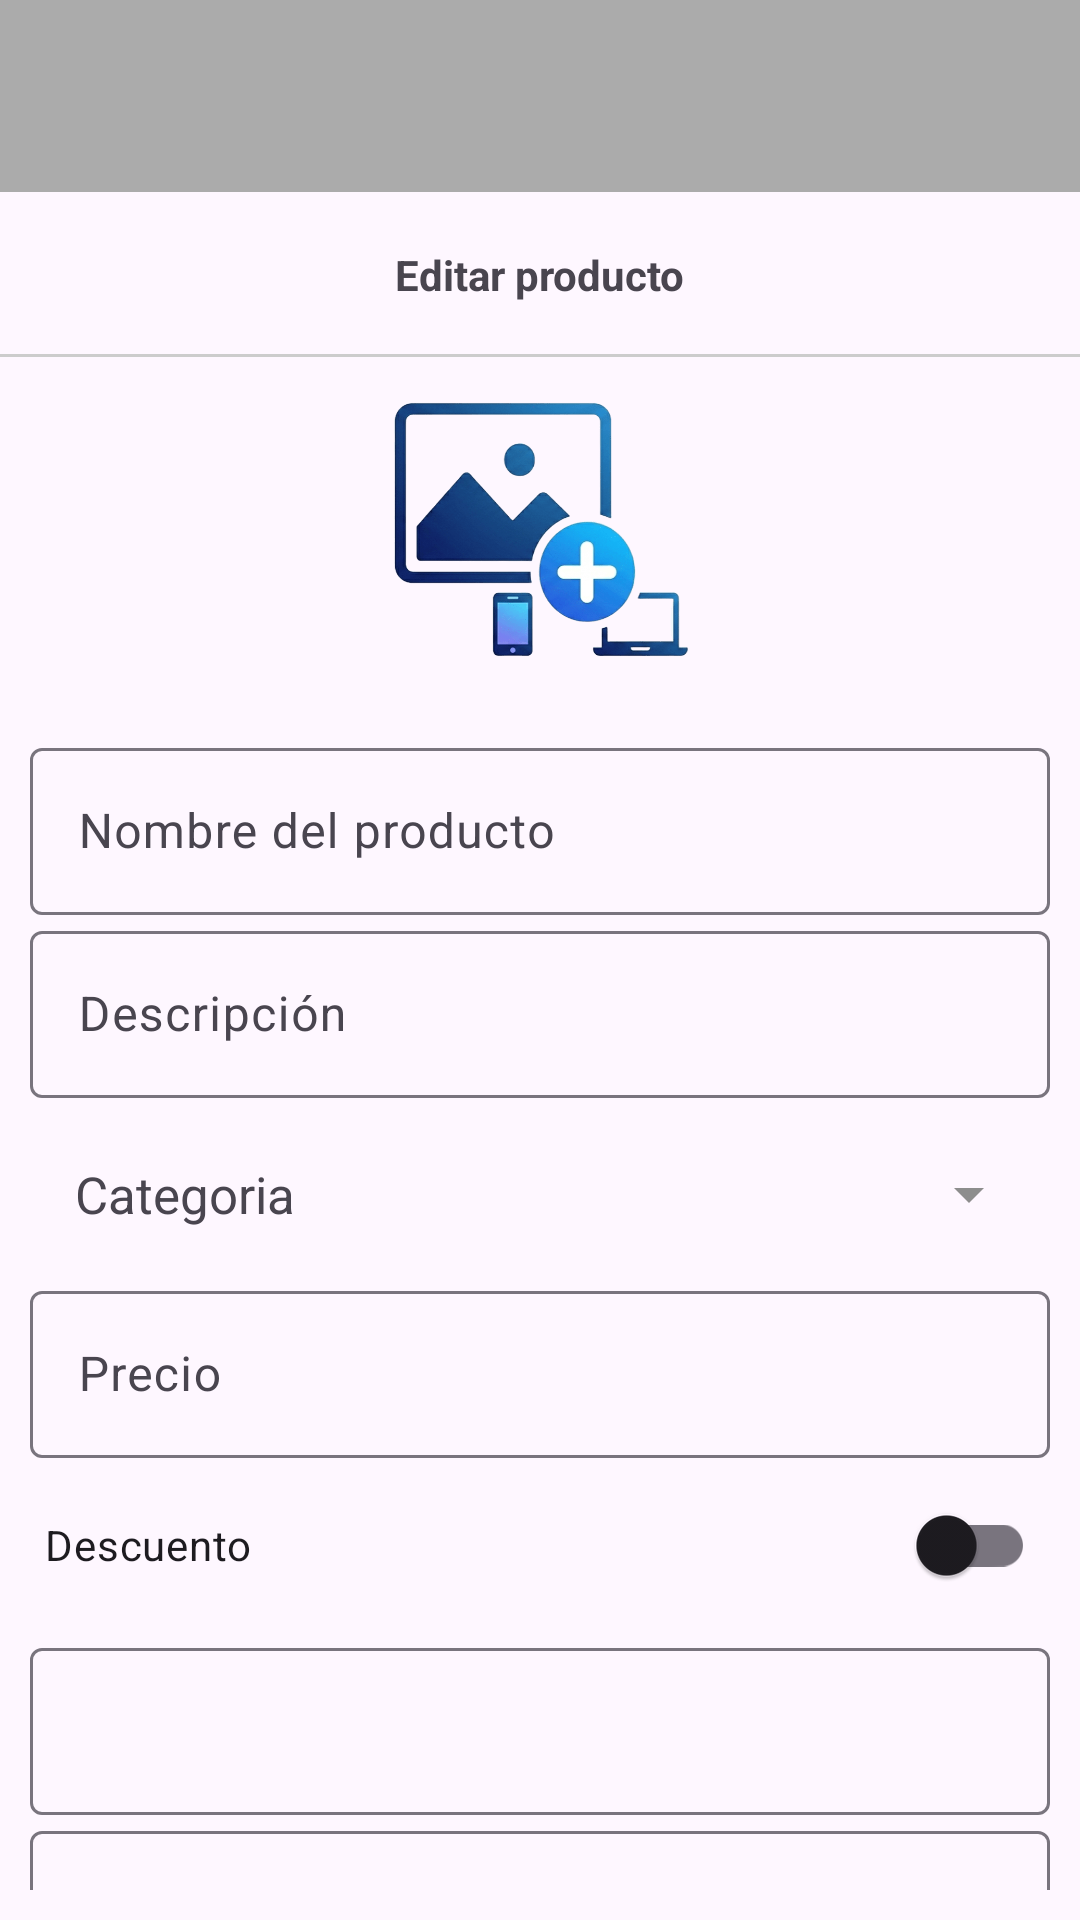

Icon bounding boxes for this 1080*1920 phone screenshot, format [left=x1, top=y1, right=x2, bottom=y2]:
agregarproducto: [left=394, top=403, right=688, bottom=656]
